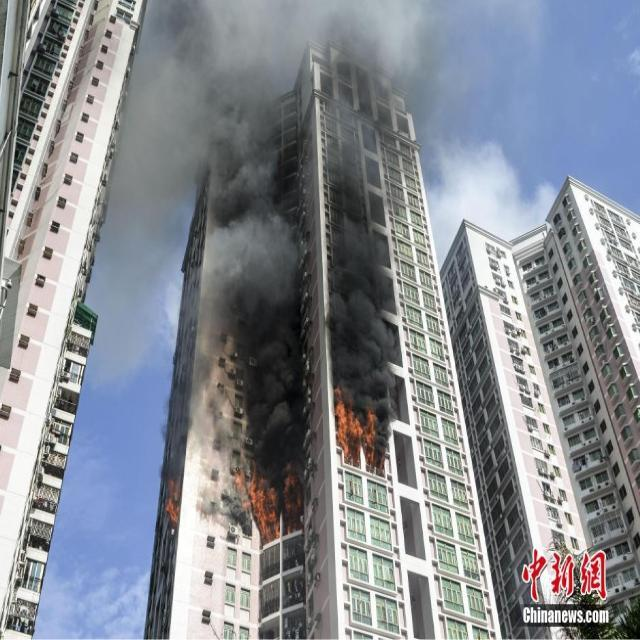Fire: (234, 467, 303, 543), (334, 394, 377, 464), (164, 476, 183, 522)
Smoke: (84, 1, 558, 477)
